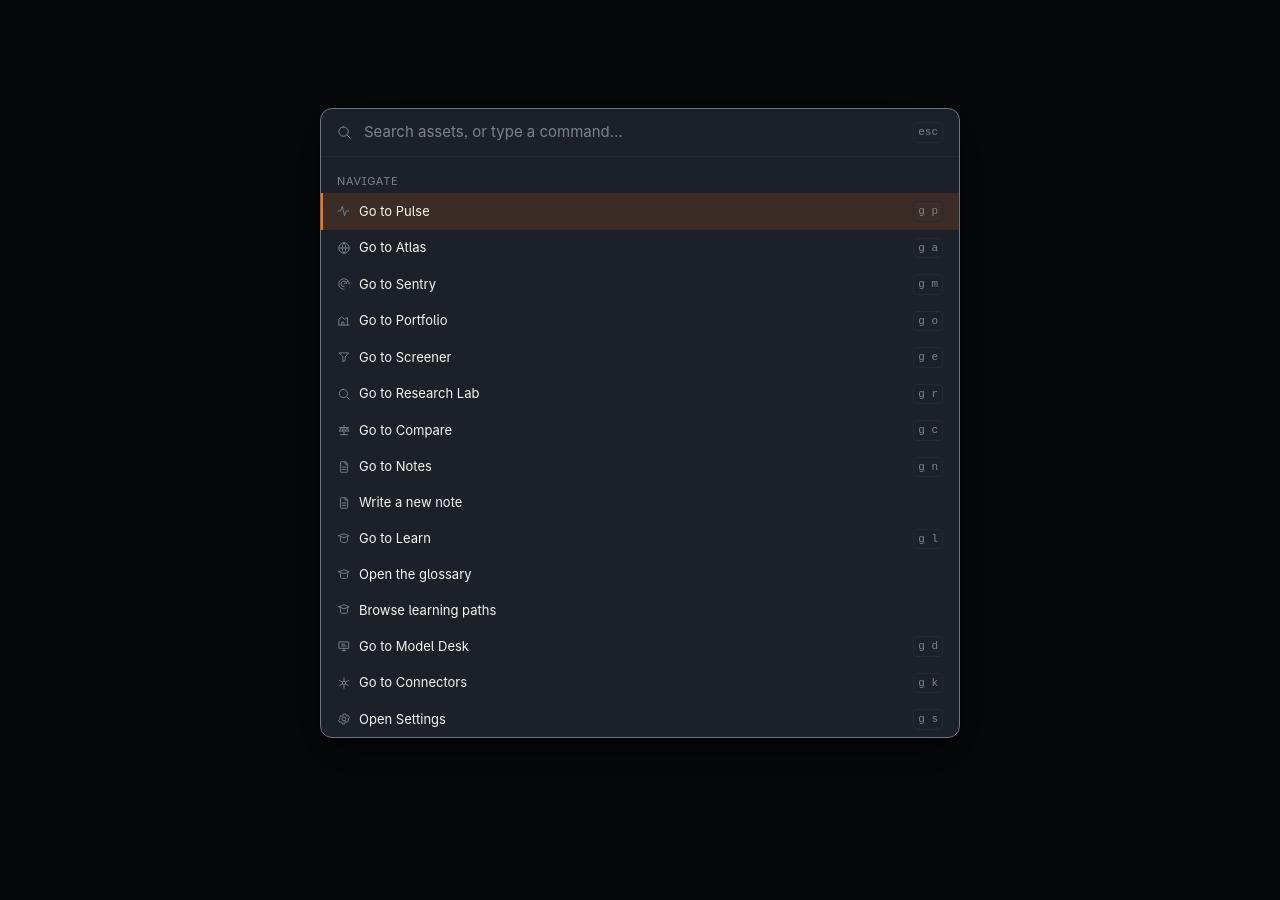
Test case: CommandPalette › reports when nothing matches instead of showing an empty list
The width and height of the screenshot is (1280, 900).
Type "zzzzqqqqxxxx" into the dropdown at (633, 132), box 352,121 -> 913,144
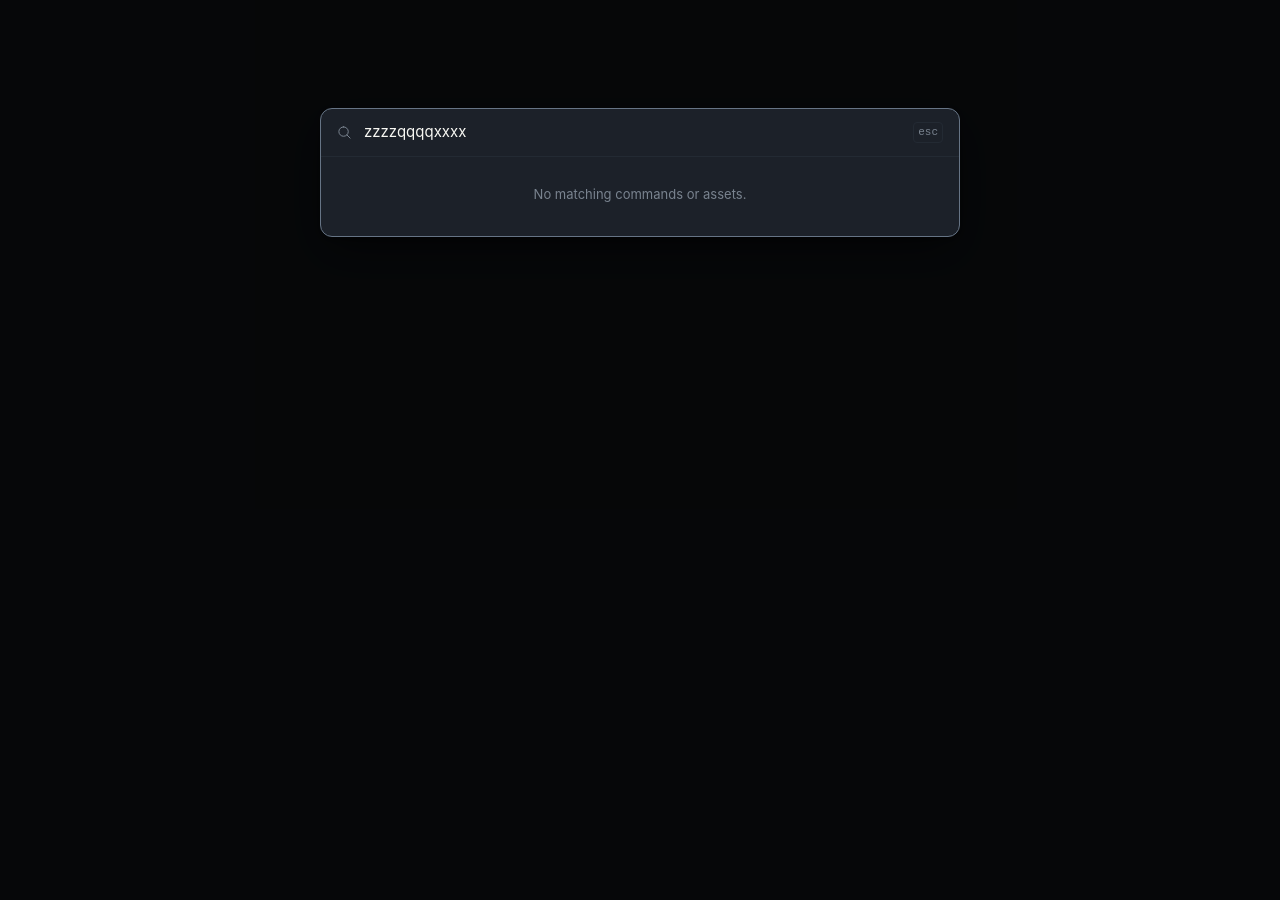
Now the list item "No matching commands or assets." is shown, box 534,186 -> 746,202
